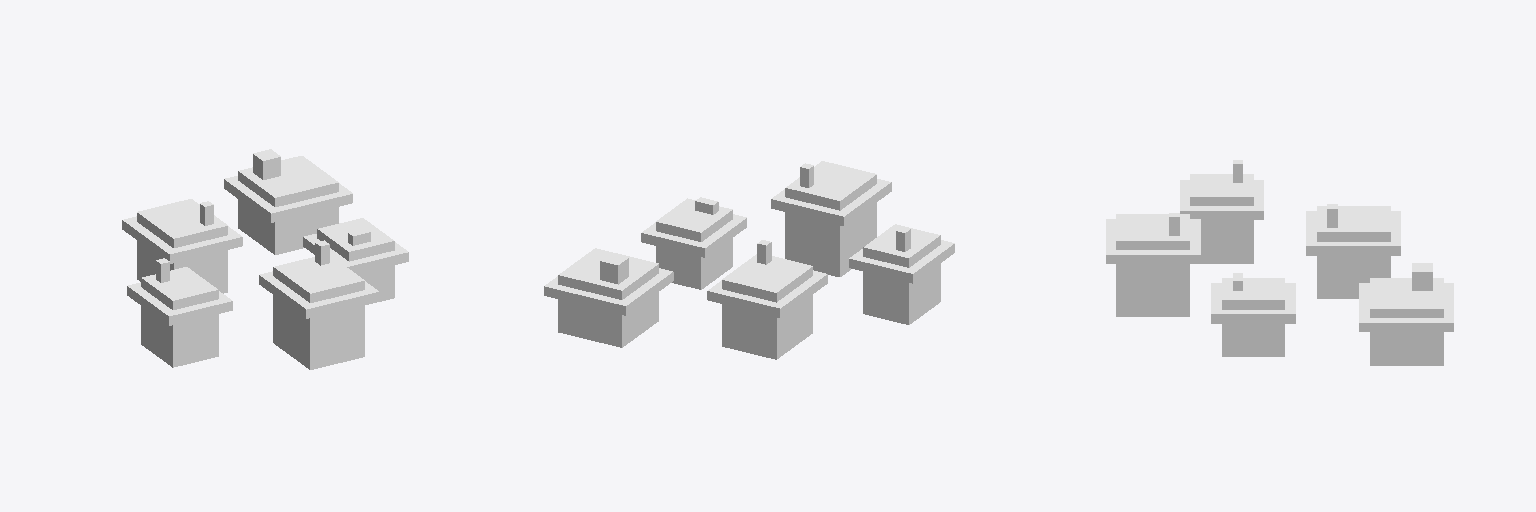
Rendered from Village.obj.
3 views of the same model, side by side, from view 1: azimuth 30°, elevation 25°; view 2: azimuth 150°, elevation 25°; view 3: azimuth 270°, elevation 25° (orthographic).
Visible parts, largest first — view 1: object 1; view 2: object 1; view 3: object 1.
Boxes of the visible parts, x1,y1,x2,y2 form: object 1: [122, 149, 408, 369]; object 1: [544, 161, 954, 359]; object 1: [1106, 160, 1453, 365].
Bounding box in the file's own units: 3 × 1 × 3.3.